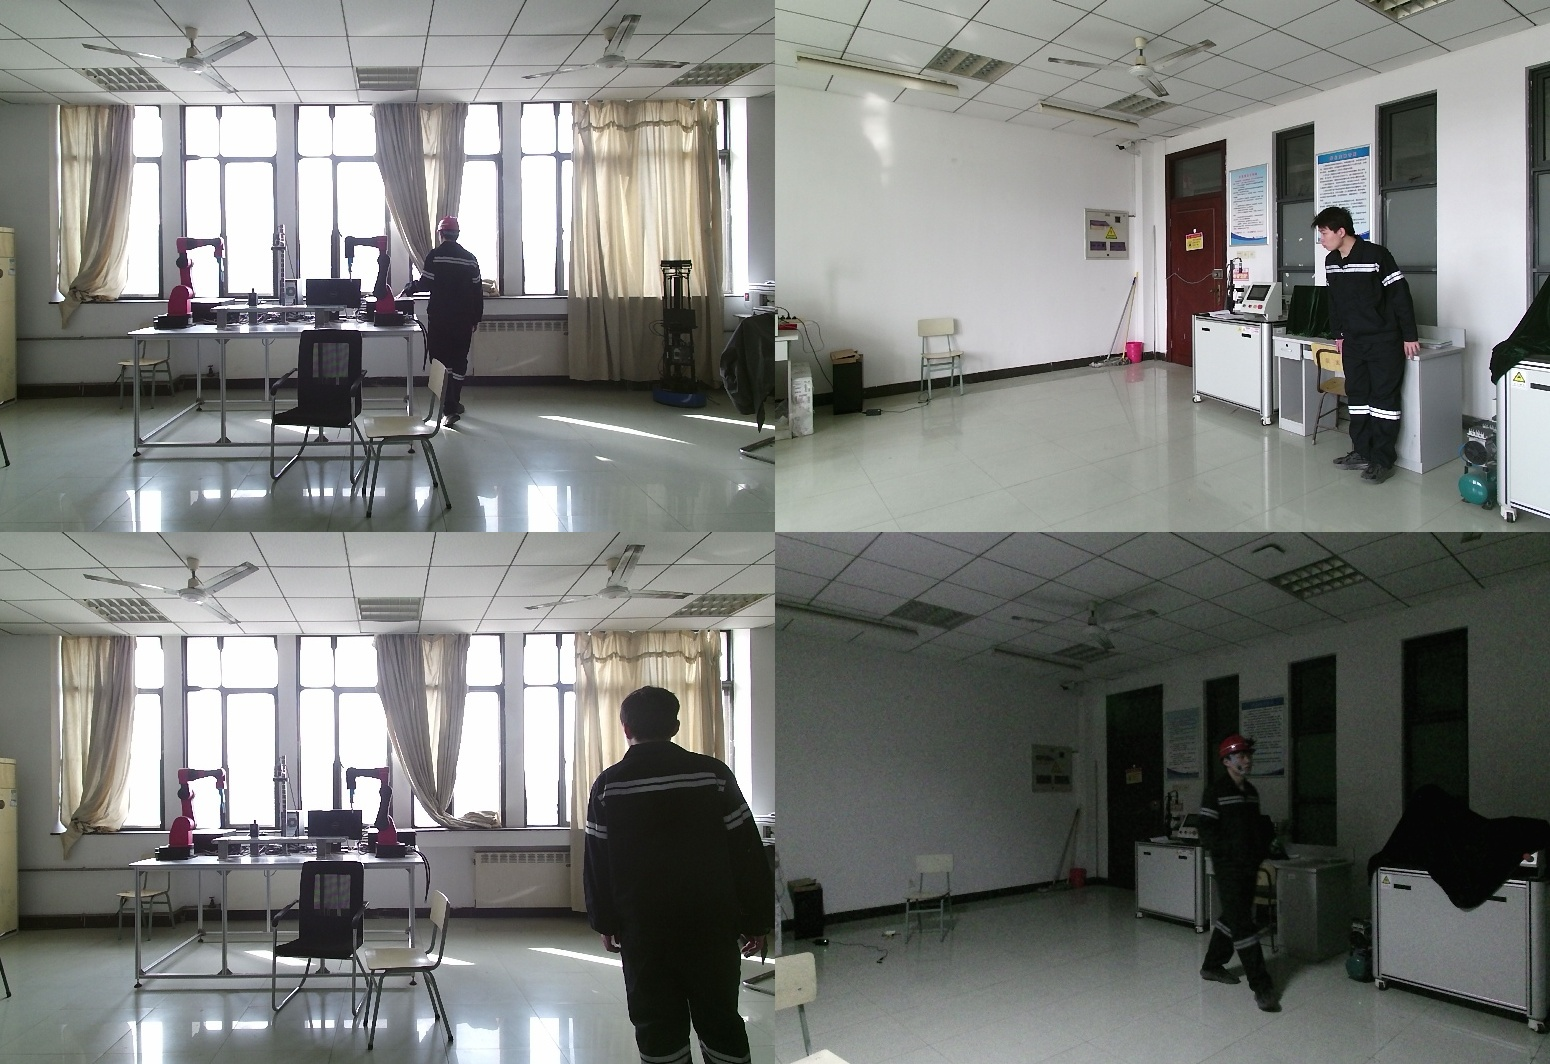person: (582, 686, 769, 1064), (1314, 207, 1426, 481), (1188, 736, 1278, 1004), (400, 216, 488, 426)
